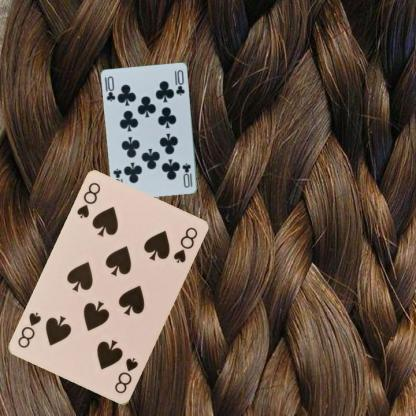10c: (180, 161, 194, 189), (104, 74, 117, 103)
8s: (112, 355, 140, 396), (74, 180, 102, 220)
